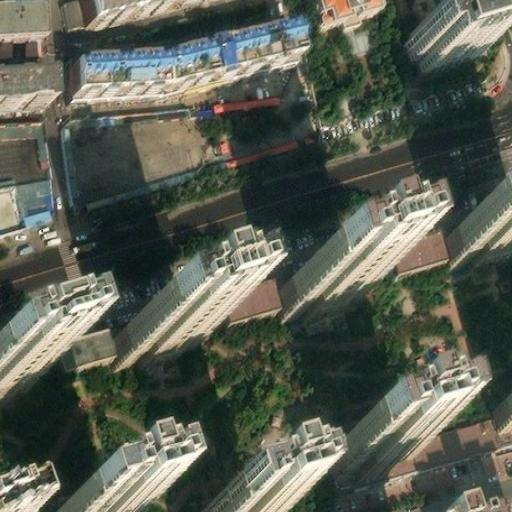building: (164, 27, 303, 89), (403, 3, 488, 68), (276, 263, 360, 315), (333, 420, 420, 470), (107, 312, 189, 365), (72, 58, 166, 93), (86, 0, 183, 23), (17, 172, 53, 221), (310, 0, 377, 25), (105, 489, 164, 512), (24, 36, 39, 81)
